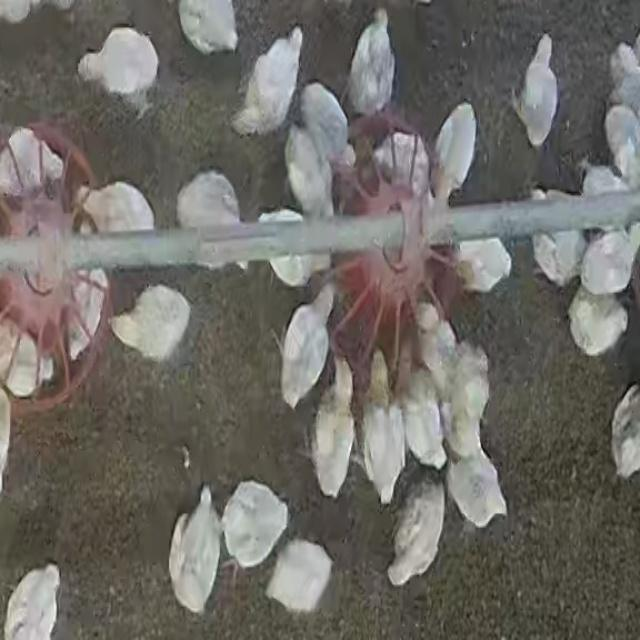chicken: (286, 84, 350, 224), (176, 169, 250, 274), (278, 285, 336, 412), (76, 26, 162, 110), (168, 485, 223, 615), (239, 27, 302, 138), (360, 350, 406, 502), (444, 341, 498, 467), (108, 283, 190, 365), (386, 479, 446, 587), (312, 356, 356, 500), (62, 217, 106, 358), (220, 479, 288, 568), (444, 448, 510, 530), (264, 538, 335, 614), (509, 34, 557, 146), (347, 10, 398, 113), (431, 101, 478, 204), (75, 180, 156, 238), (0, 322, 60, 399), (369, 128, 432, 200), (263, 208, 319, 288), (4, 563, 62, 638), (568, 288, 628, 358), (0, 126, 61, 194), (578, 229, 633, 298), (450, 237, 511, 296), (177, 0, 240, 56), (532, 224, 587, 288), (604, 105, 640, 187), (610, 384, 640, 482), (608, 40, 640, 118)
